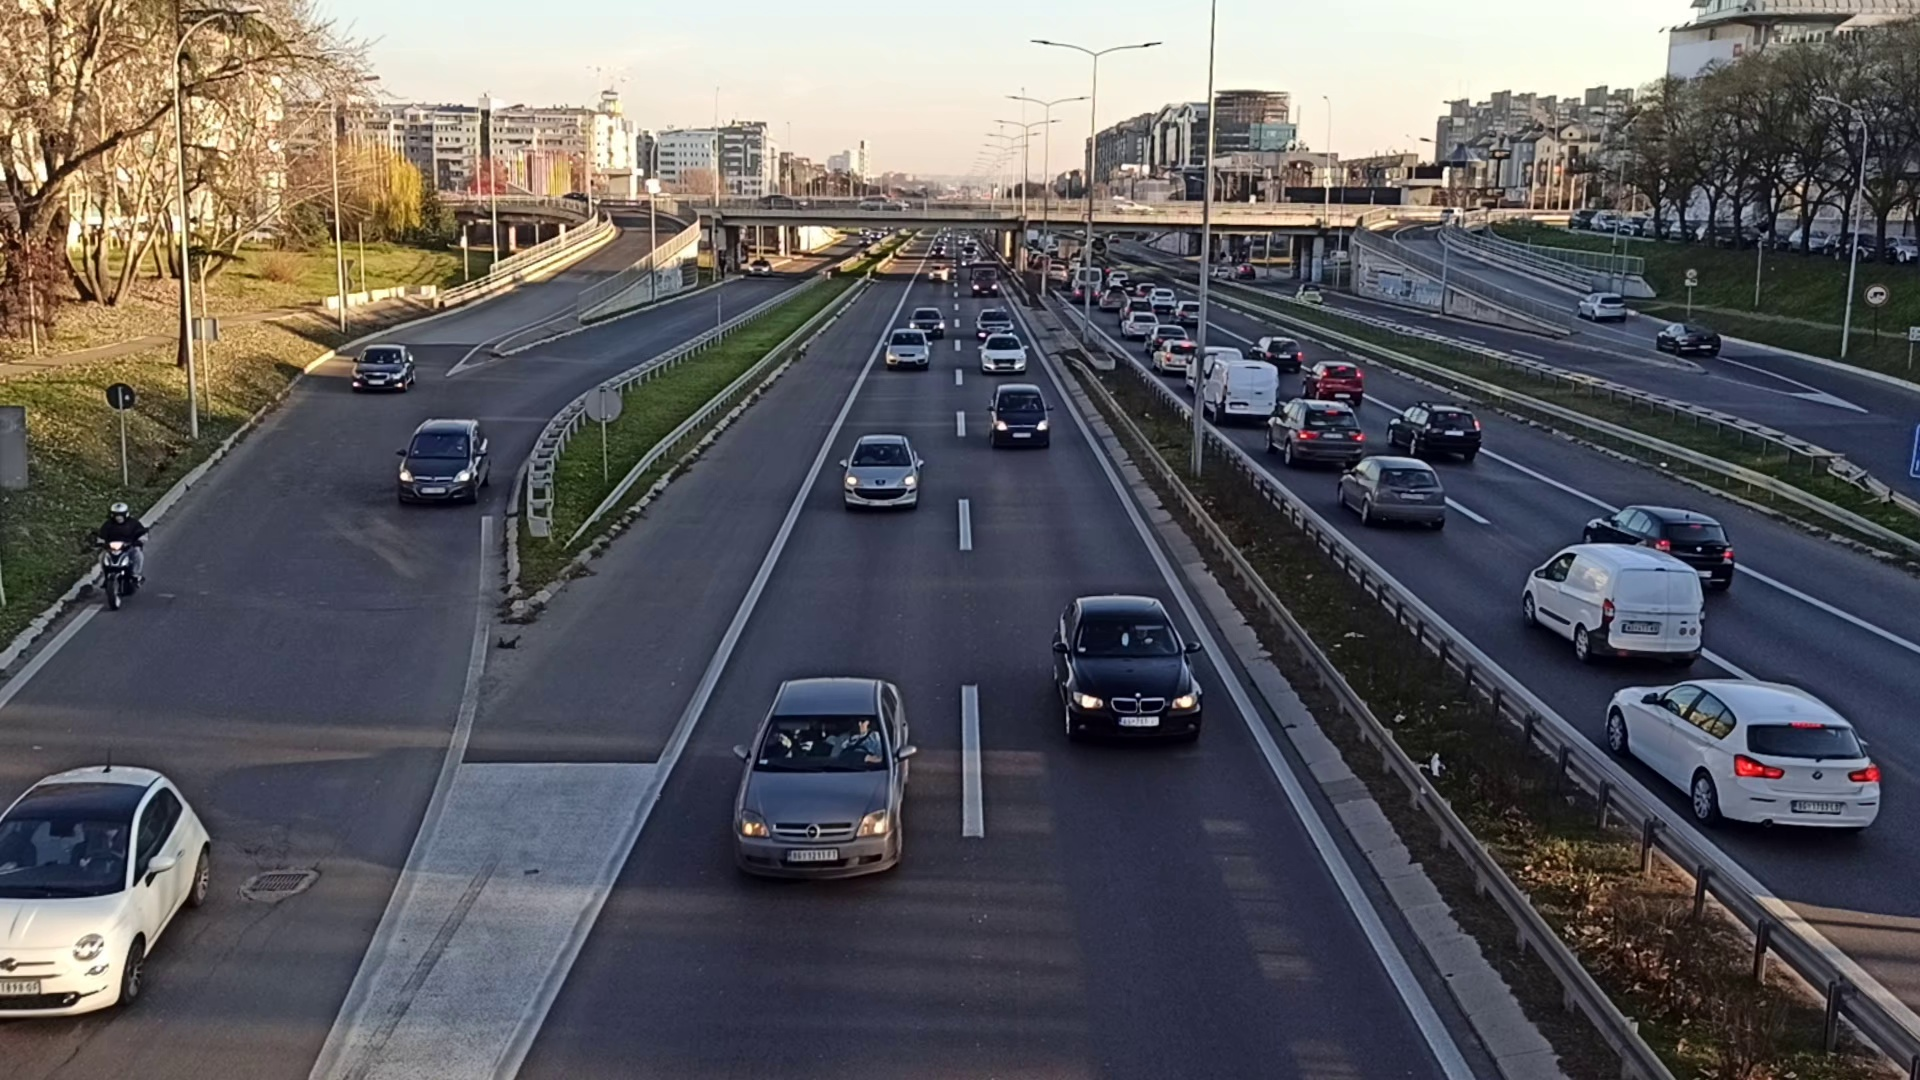car: (1606, 673, 1880, 847), (731, 674, 910, 891), (1054, 593, 1203, 753), (1338, 448, 1445, 530), (397, 415, 491, 504), (1385, 401, 1482, 464), (1267, 394, 1360, 459), (844, 436, 920, 514), (986, 384, 1046, 444), (355, 343, 414, 394), (1655, 318, 1721, 361), (1307, 360, 1362, 405), (981, 335, 1029, 375), (885, 328, 930, 365), (1577, 290, 1629, 320), (911, 307, 945, 334)
motorcycle: (99, 498, 145, 611)
van: (1524, 538, 1705, 663), (1205, 359, 1275, 425)
